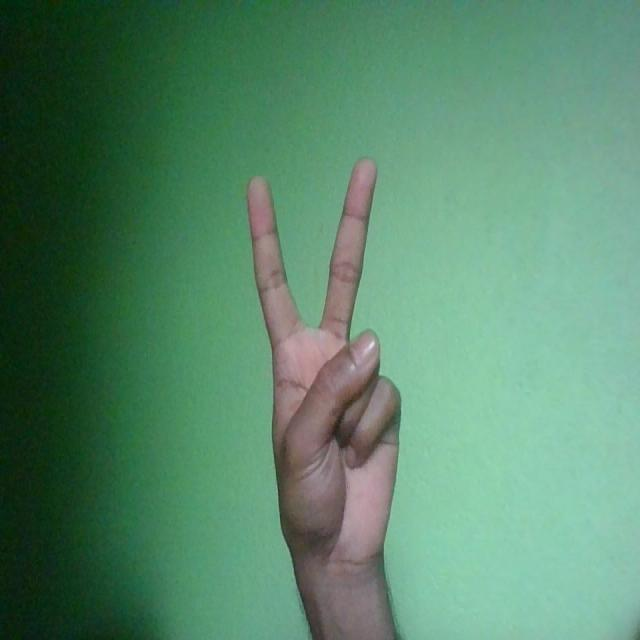Fist: (245, 154, 402, 576)
